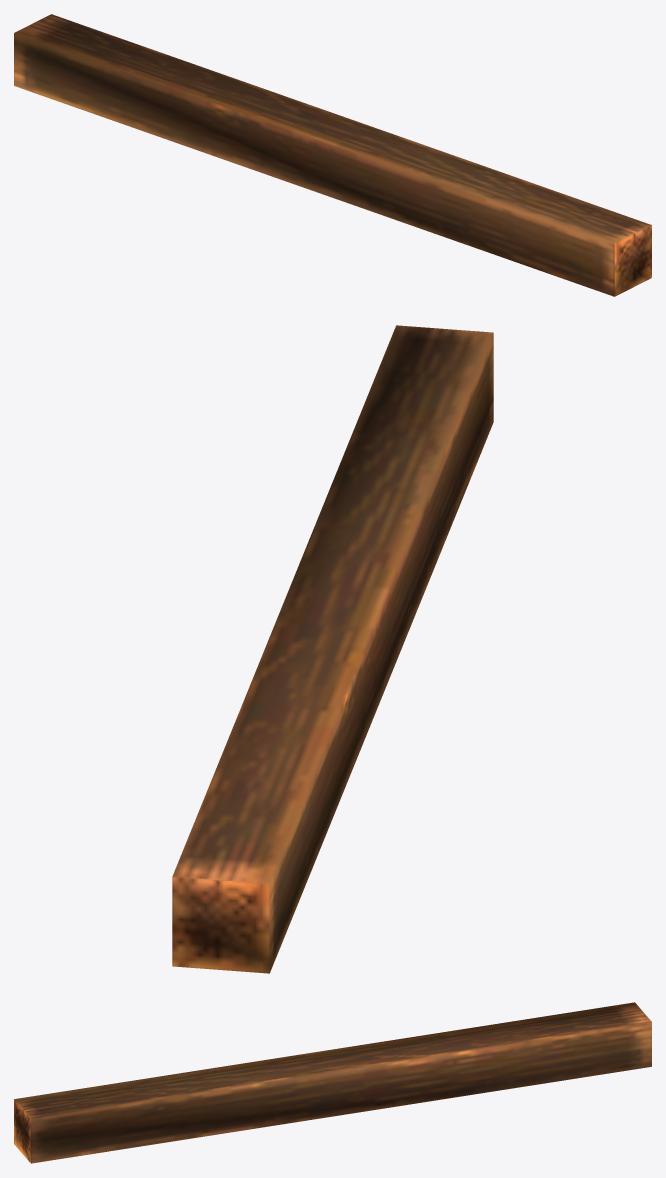
File: SWORDLIGHT20_JAILBRACE45.fbx
The picture shows the model from 3 angles, top to bottom: view 1: azimuth 30°, elevation 25°; view 2: azimuth 150°, elevation 25°; view 3: azimuth 270°, elevation 25°; orthographic projection. The views are drawn at different scales.
Parts seen in each view (by area): view 1: SWORDLIGHT20_JAILBRACE45; view 2: SWORDLIGHT20_JAILBRACE45; view 3: SWORDLIGHT20_JAILBRACE45.
Part boxes in pixels (<box>): SWORDLIGHT20_JAILBRACE45: <box>14,14,651,296</box>; SWORDLIGHT20_JAILBRACE45: <box>172,325,493,973</box>; SWORDLIGHT20_JAILBRACE45: <box>14,1002,651,1163</box>.
Bounding box in the file's own units: 22298 × 4000 × 51602.
Materials: 1 (1 with a texture image).
